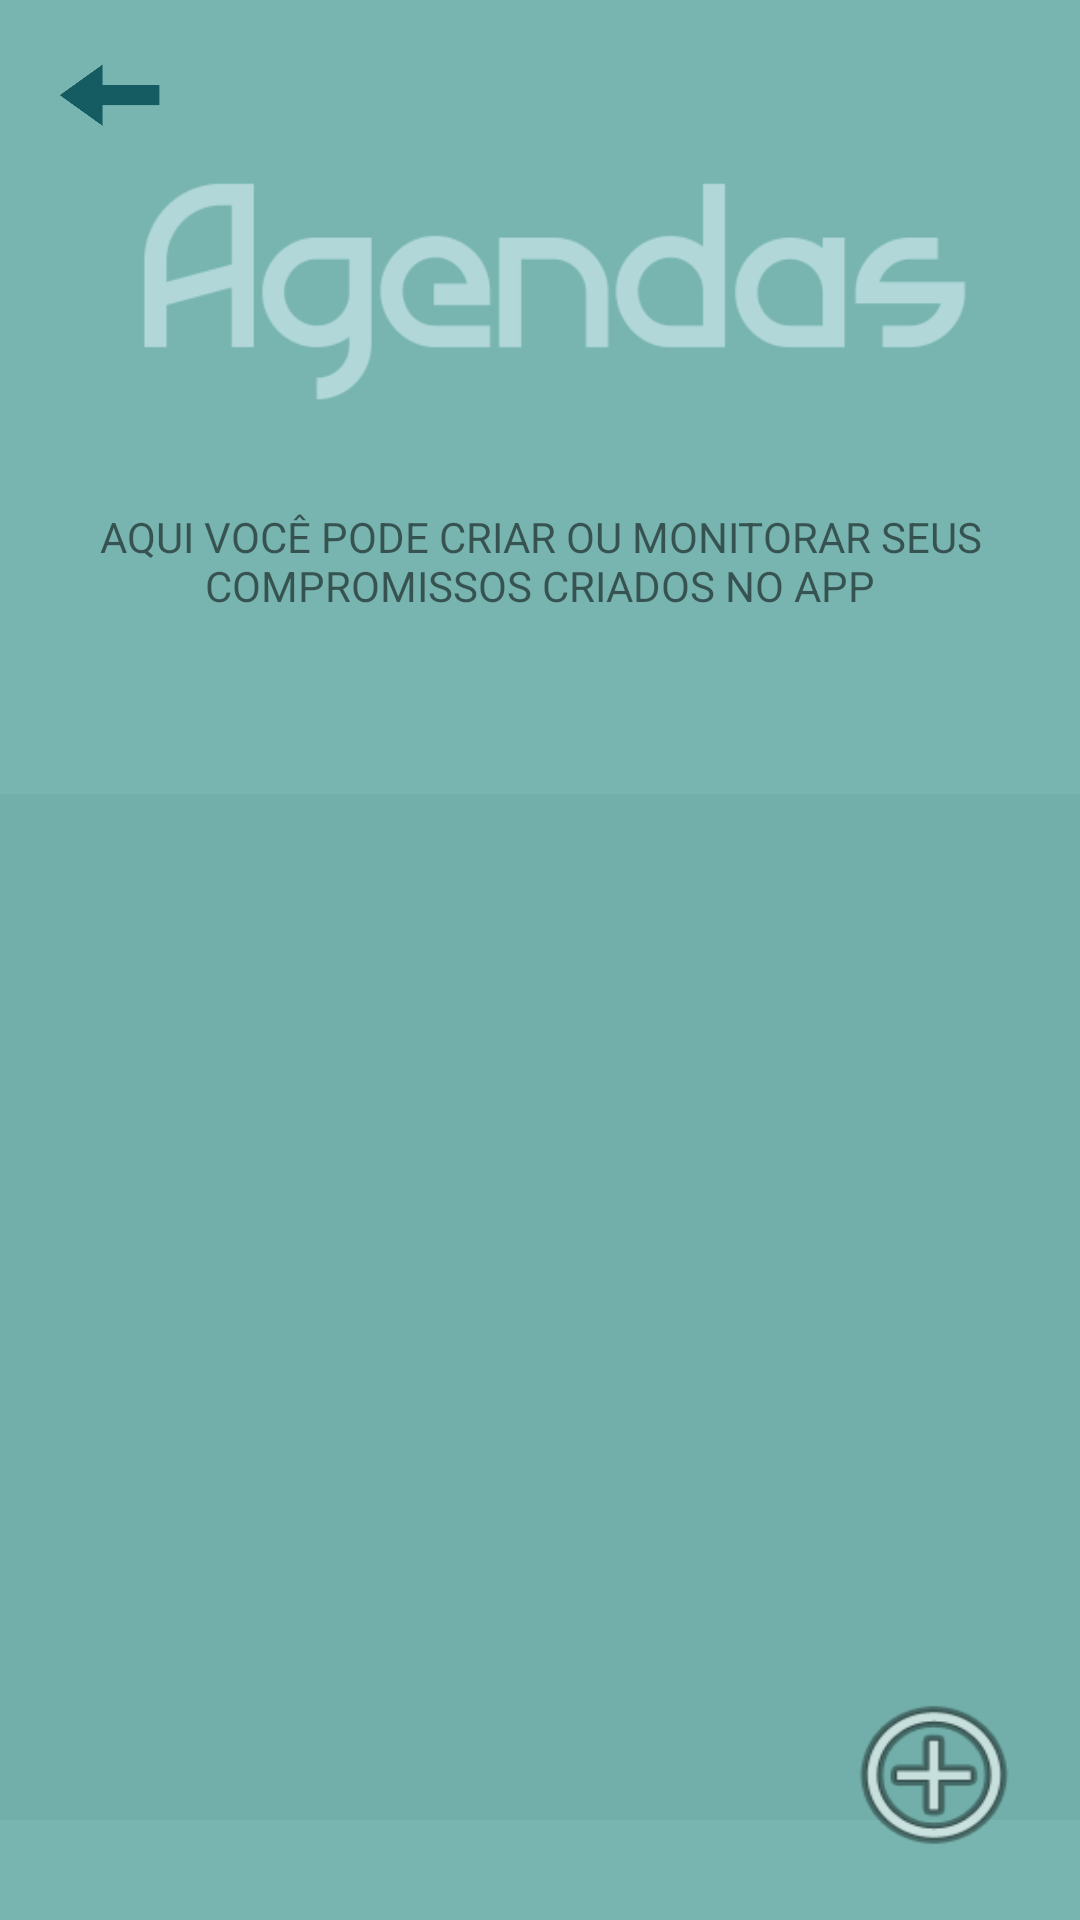

Named icons in this screenshot (1080x1920) and their centers, [x,y]:
add: [934,1775]
btnvoltar: [110,95]
